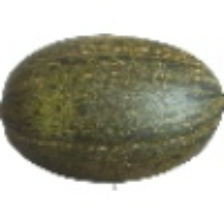honeydew: (41, 13, 224, 169)
